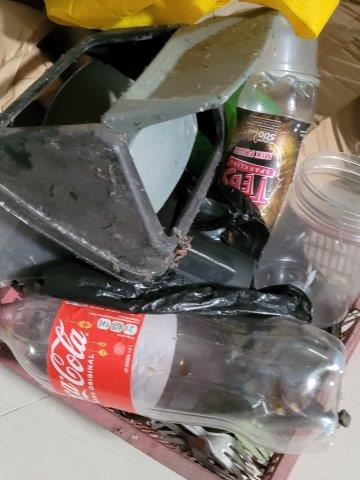botolplastik: (1, 294, 348, 451), (233, 73, 314, 223)
